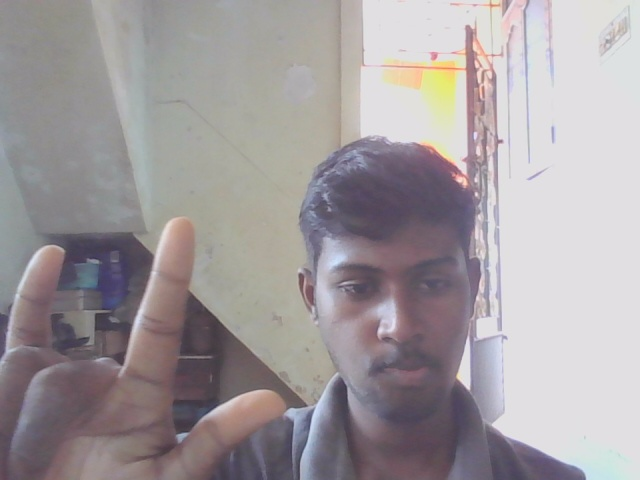I Love You: (5, 211, 291, 480)
